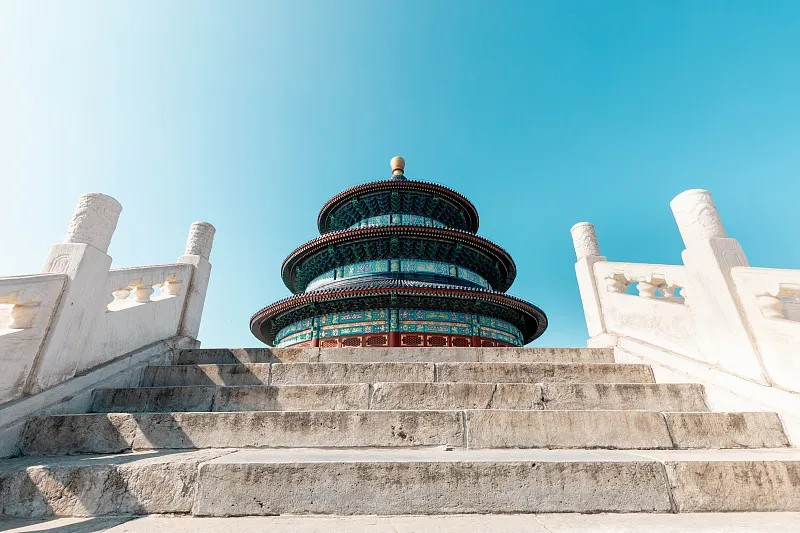Heaven: (249, 156, 548, 348)
